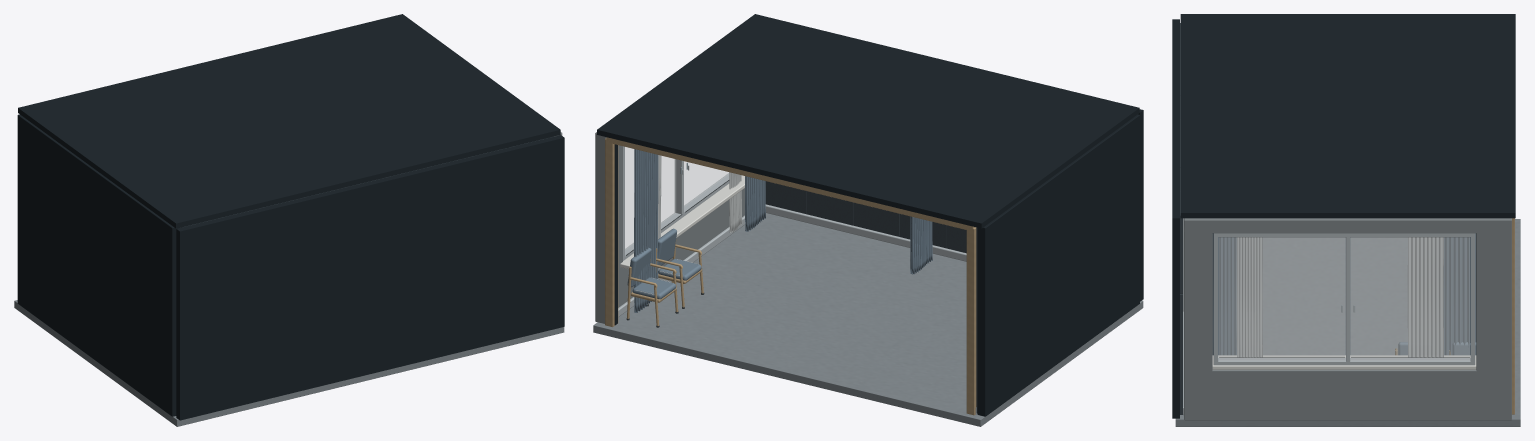
The model's file is ward-graphite-room-v1.glb.
The picture shows the model from 3 angles, left to right: view 1: azimuth 30°, elevation 25°; view 2: azimuth 150°, elevation 25°; view 3: azimuth 270°, elevation 25°; orthographic projection. The views are drawn at different scales.
Visible parts, largest first — view 1: 外壳_Static; view 2: 外壳_Static, WardGraphiteRoomV1_Static; view 3: 外壳_Static, WardGraphiteRoomV1_Static.
Boxes of the visible parts, box(x1,y1,x2,y2) form: 外壳_Static: box(14, 14, 564, 426); 外壳_Static: box(593, 14, 1143, 426); WardGraphiteRoomV1_Static: box(626, 228, 704, 327); 外壳_Static: box(1172, 14, 1520, 426); WardGraphiteRoomV1_Static: box(1395, 342, 1476, 355).
Size of the model in its own units: 6.7 by 3.3 by 4.89.
25 materials, 9 textured.
